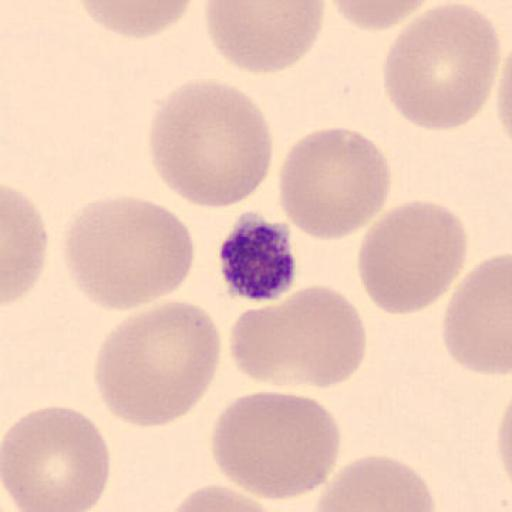Platelet: (218, 210, 298, 303)
RBC: (92, 298, 222, 428), (148, 78, 274, 210), (60, 193, 197, 312), (381, 2, 502, 132), (227, 284, 369, 390), (209, 388, 341, 502), (355, 199, 468, 316), (278, 125, 392, 240), (0, 405, 112, 512), (203, 0, 326, 76), (442, 252, 512, 376), (312, 453, 438, 512), (1, 182, 50, 306), (74, 0, 198, 39), (166, 482, 279, 512), (327, 0, 431, 32), (496, 52, 512, 143), (496, 399, 512, 480)
